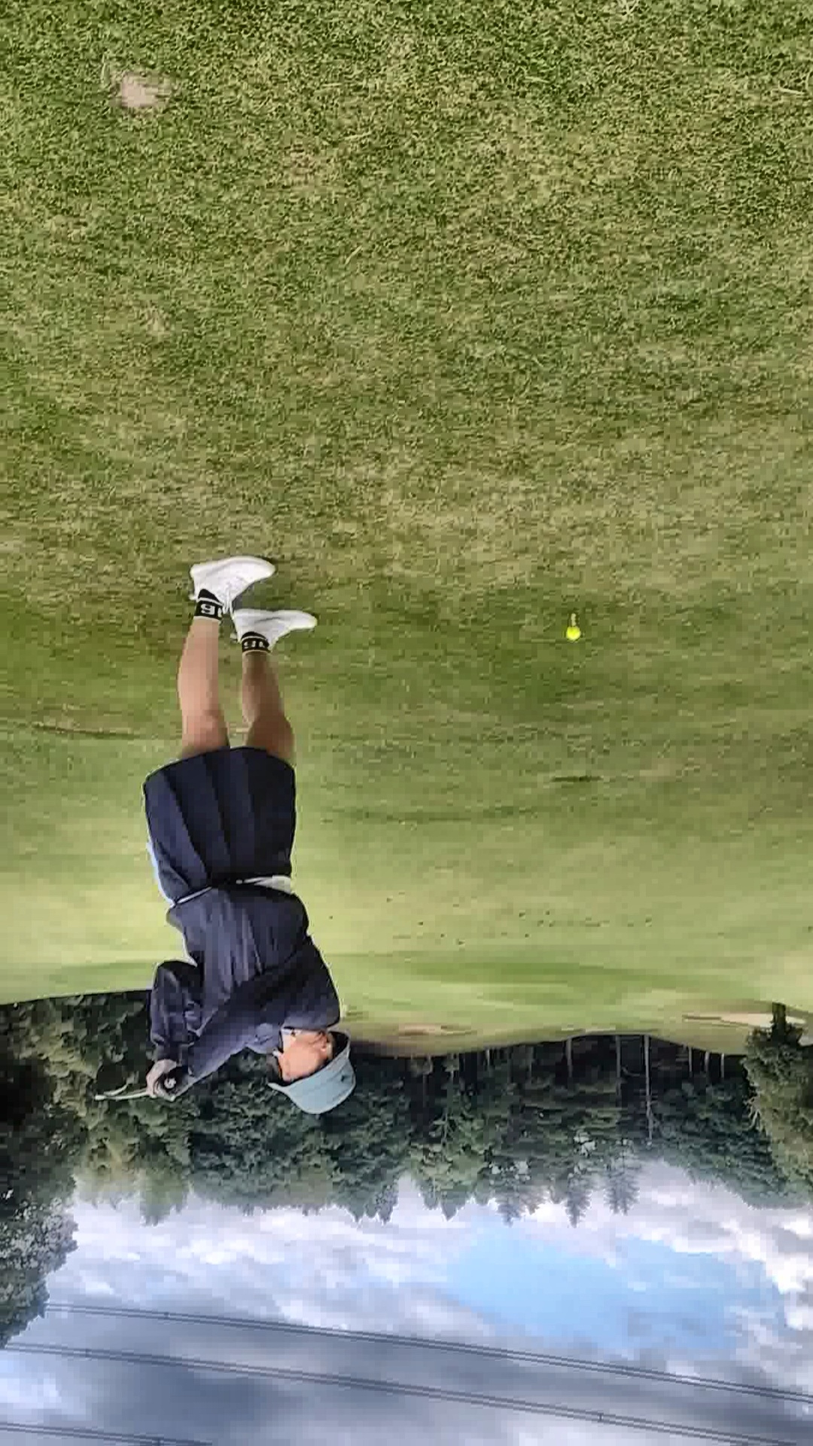clubhead: (69, 1006, 187, 1170)
